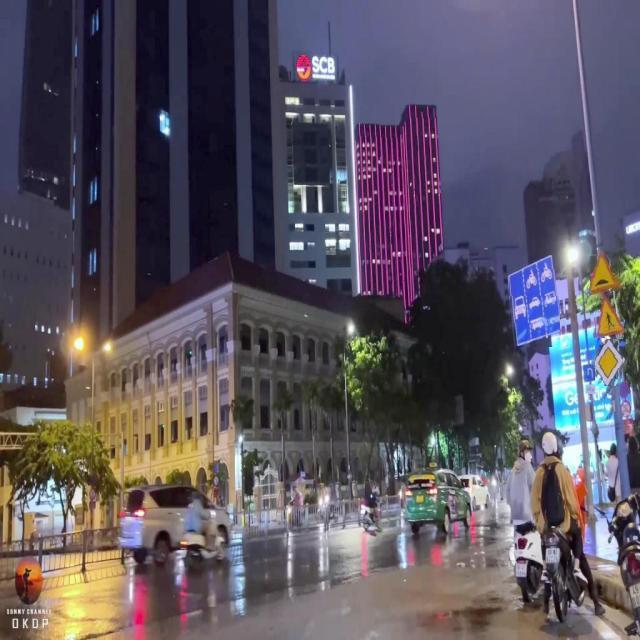221-duong-go-ghe: (589, 254, 619, 294)
224-duong-nguoi-di-bo-cat-ngang: (596, 297, 626, 339)
